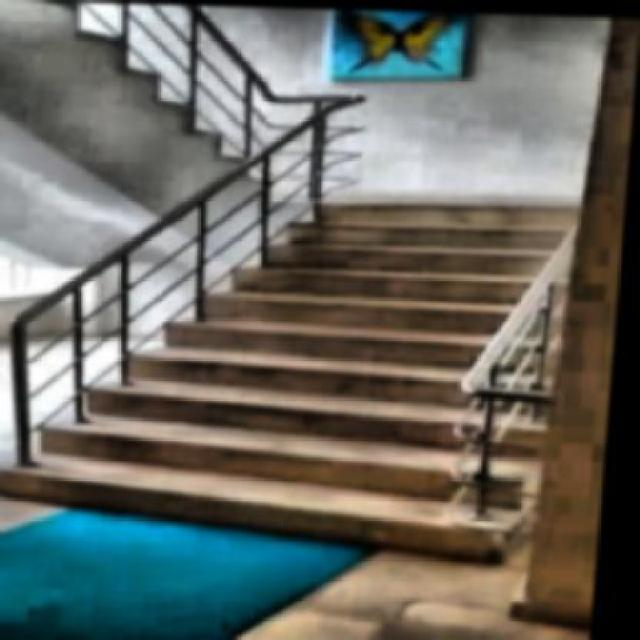stair: (5, 165, 568, 568)
